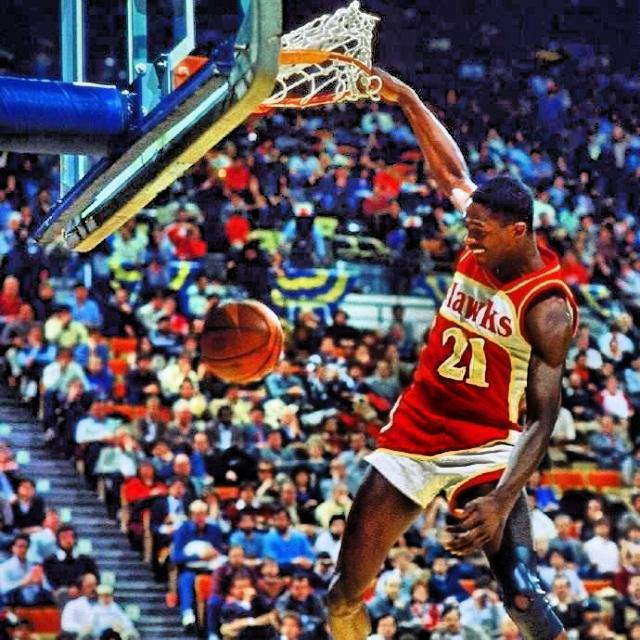board: (200, 299, 282, 384)
rim: (169, 5, 390, 114)
